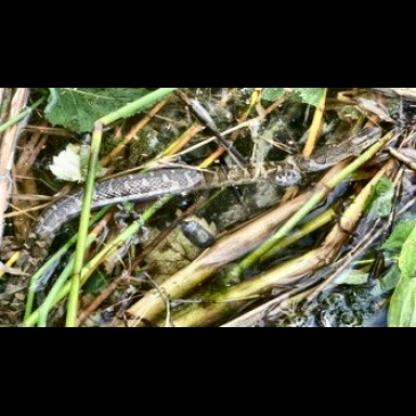Snake: (51, 144, 238, 226), (252, 122, 388, 178)
